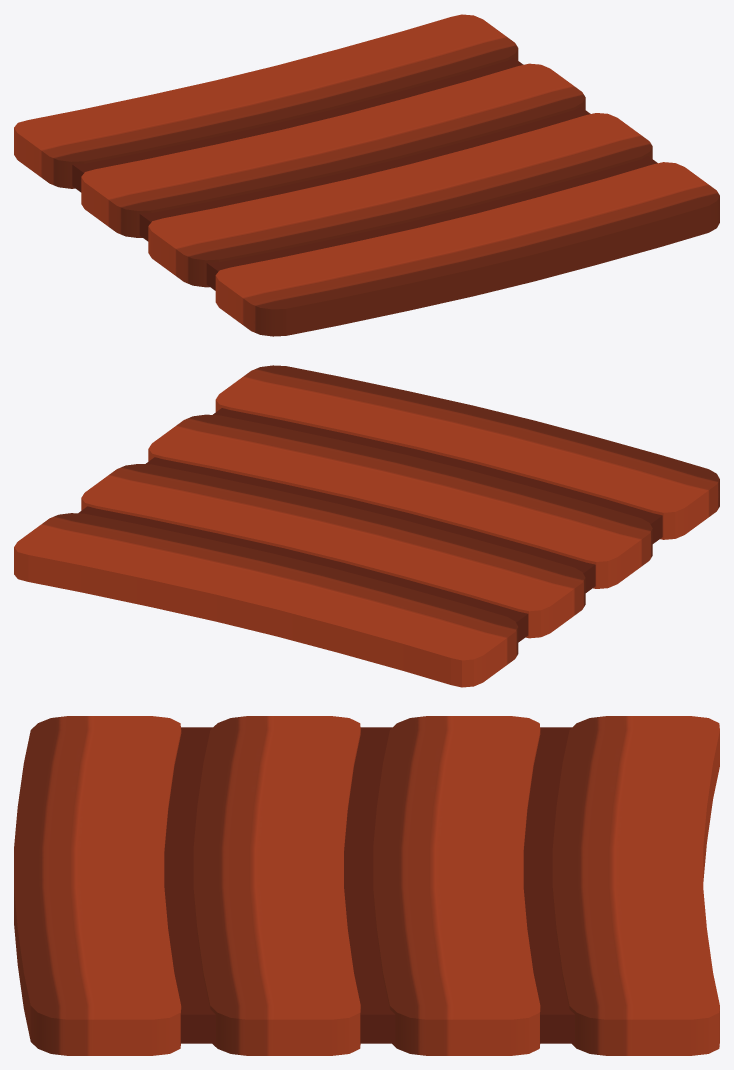
Rendered from Ribs_Slice_Ribs_0.glb.
3 renders of one model, top to bottom at view 1: azimuth 30°, elevation 25°; view 2: azimuth 150°, elevation 25°; view 3: azimuth 270°, elevation 25°, orthographic. The views are drawn at different scales.
Parts seen in each view (by area): view 1: Ribs_Slice_Ribs_0; view 2: Ribs_Slice_Ribs_0; view 3: Ribs_Slice_Ribs_0.
Part boxes in pixels (x1,y1,x2,y2): Ribs_Slice_Ribs_0: [14, 14, 719, 336]; Ribs_Slice_Ribs_0: [14, 365, 719, 687]; Ribs_Slice_Ribs_0: [14, 716, 719, 1055].
Bounding box in the file's own units: 0.18 × 0.01 × 0.1769.
1 material, 1 textured.
